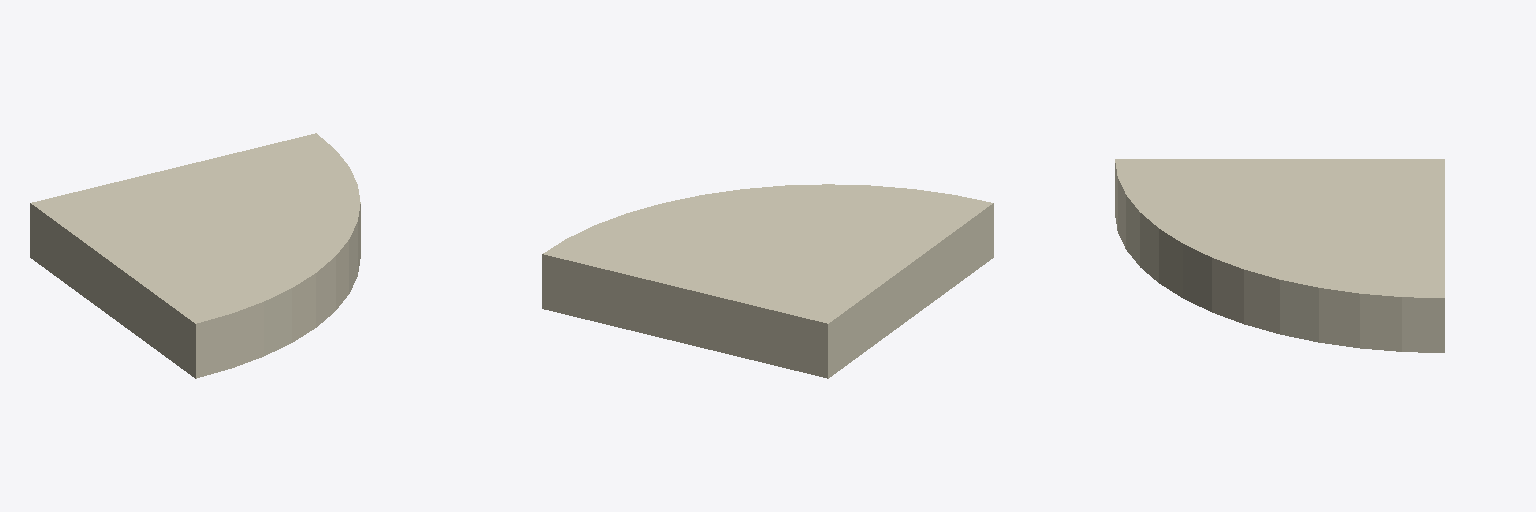
3 renders of one model, left to right at view 1: azimuth 30°, elevation 25°; view 2: azimuth 150°, elevation 25°; view 3: azimuth 270°, elevation 25°, orthographic.
Parts seen in each view (by area): view 1: roadTile_008.001; view 2: roadTile_008.001; view 3: roadTile_008.001.
Boxes of the visible parts, <box> form: roadTile_008.001: <box>30,133,360,378</box>; roadTile_008.001: <box>542,184,993,378</box>; roadTile_008.001: <box>1115,159,1444,352</box>.
Size of the model in its own units: 3 by 0.55 by 3.